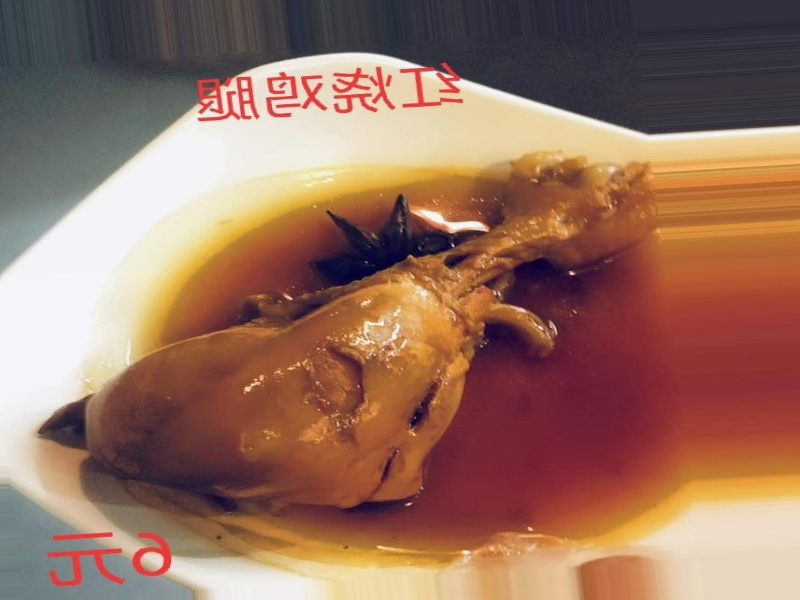chicken: (39, 132, 707, 522)
